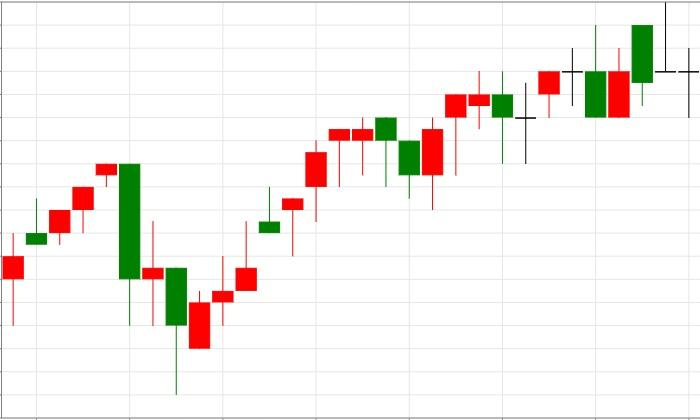hanging_man_fall: (188, 117, 397, 349)
